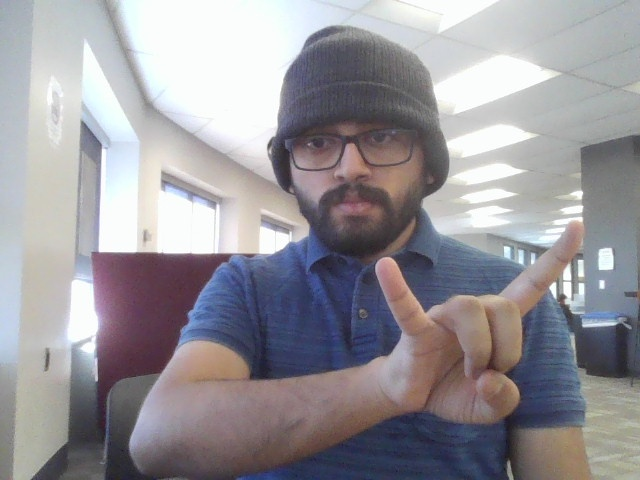help: (347, 205, 597, 441)
